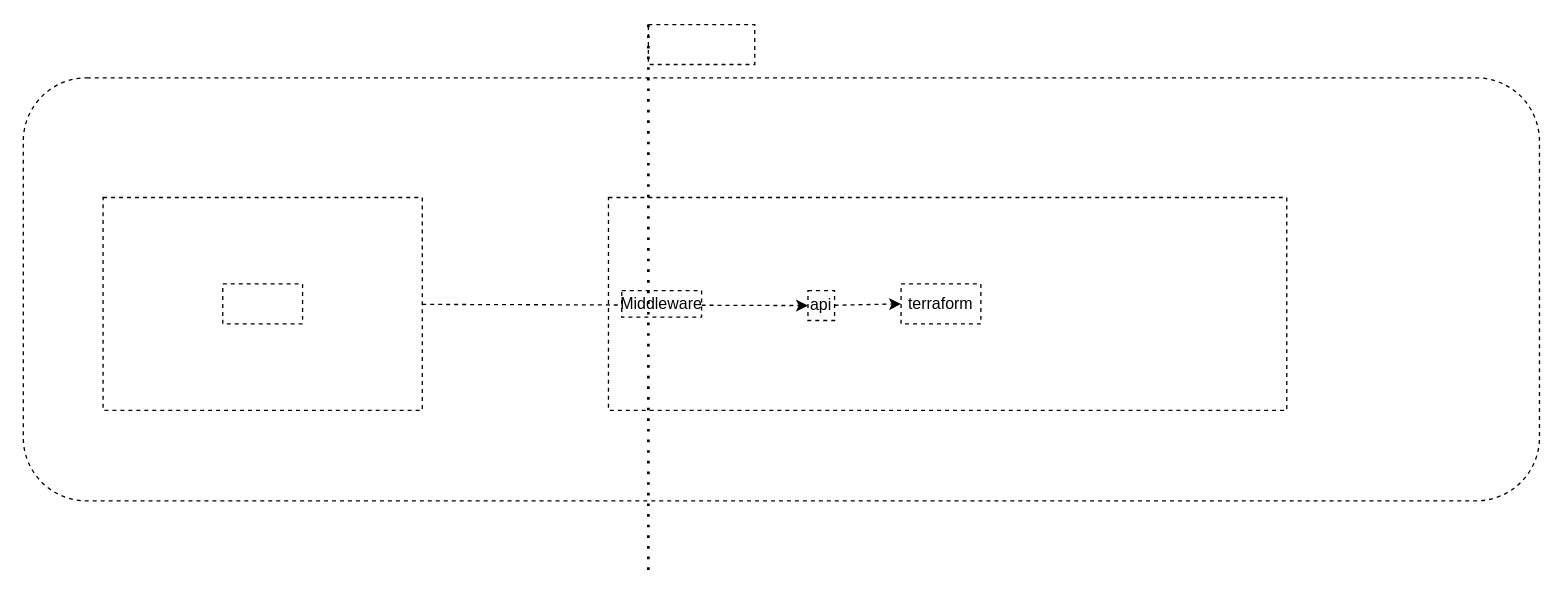
Image size: 1563x595. Some labels were removed from this diagram. Here are the shapes that lost their labels. From the top down, the centre of each, then its label:
At [701,44]: "auth layer".
At [262,303]: "client".
